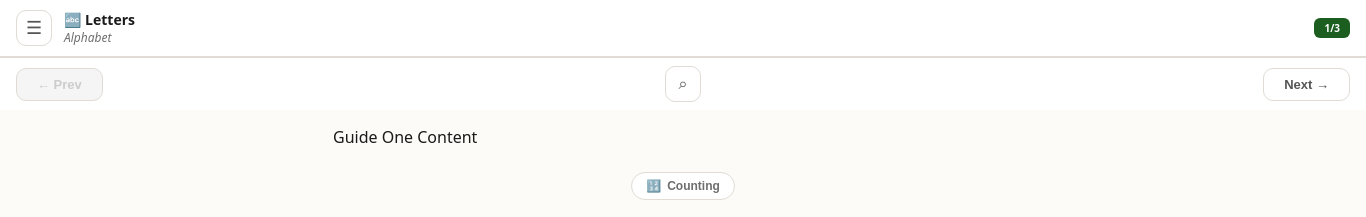
Test case: GuideShell › navigates back with the Prev button
# Go to guide 2 first
Click the button with aria-label "Next guide": x=1307, y=84 x1=1263 y1=68 x2=1350 y2=100
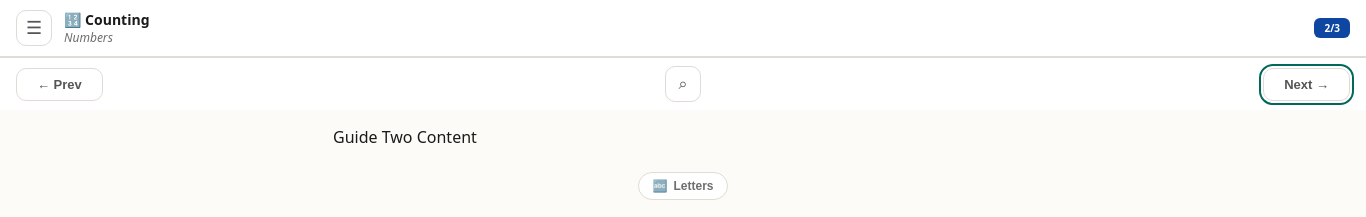
expect the text "Guide Two Content" is shown: met, box x1=333 y1=126 x2=477 y2=148
# Now go back
Click the button with aria-label "Previous guide": x=59, y=84 x1=16 y1=68 x2=103 y2=100
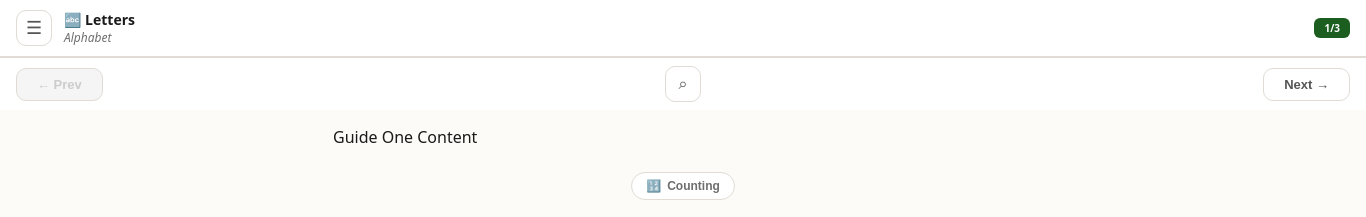
expect the text "Guide One Content" is shown: met, box x1=333 y1=126 x2=477 y2=148
